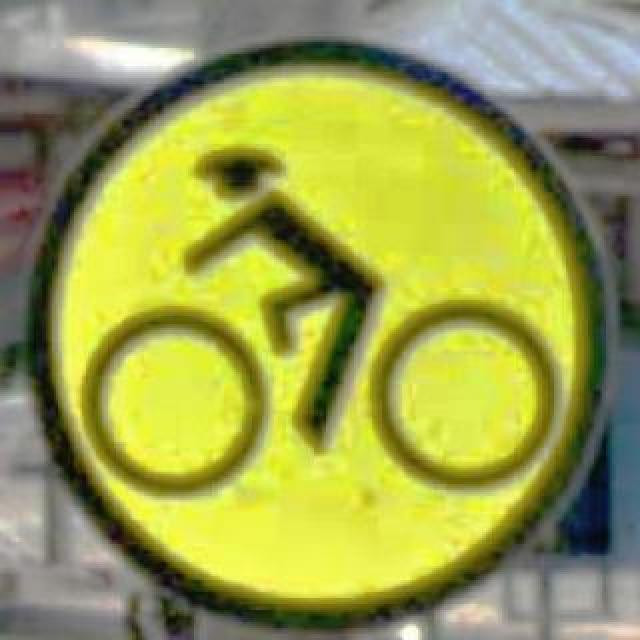bike lane: (24, 40, 612, 638)
